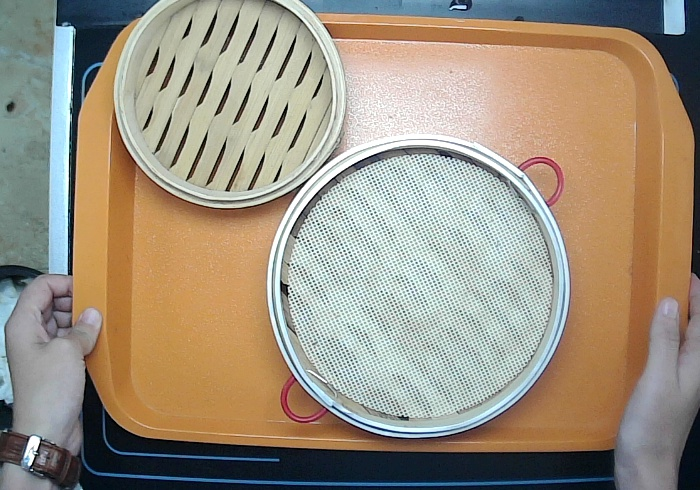ZNLD-Da_Zheng_Long: (264, 132, 572, 440)
ZNLD-Xiao_Zheng_Long: (110, 1, 349, 210)
